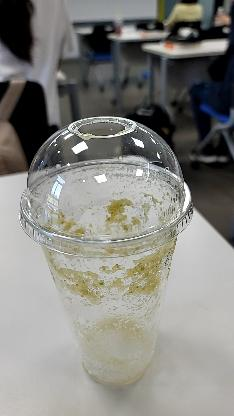Plastic Cup: (16, 114, 194, 390), (18, 116, 192, 258)
